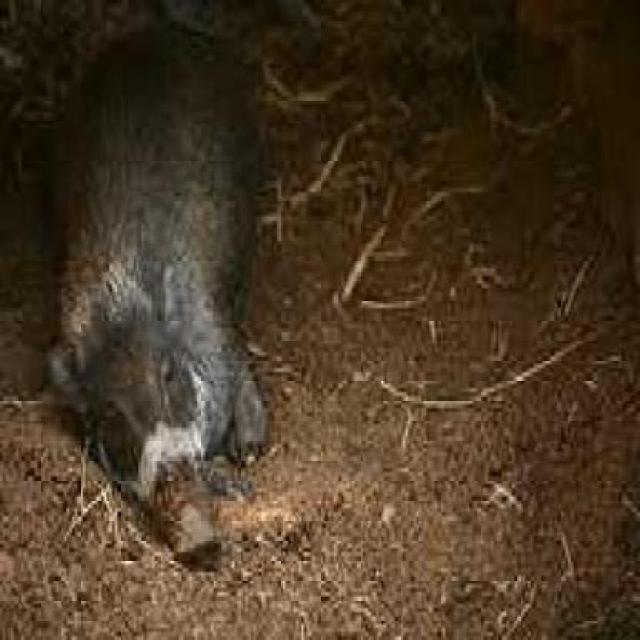pig: (28, 48, 288, 559)
